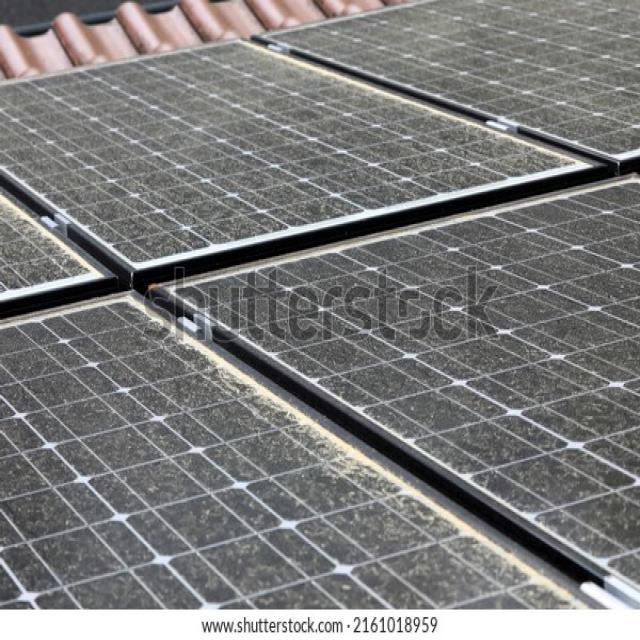faulty: (163, 173, 635, 592), (2, 303, 593, 612), (2, 38, 588, 263), (280, 2, 640, 157)
